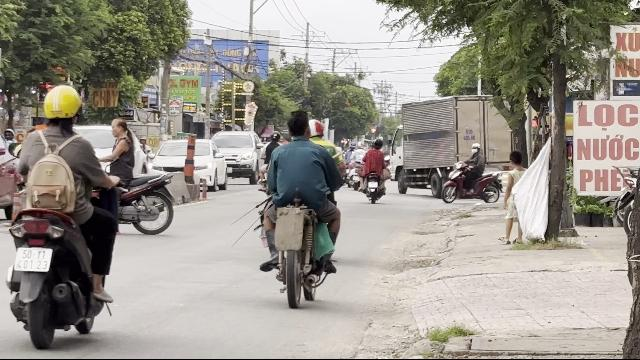helmet: (40, 84, 82, 128), (309, 119, 325, 137)
licenseplate: (14, 248, 50, 270)
motorcyclist: (2, 81, 120, 347), (253, 111, 345, 307)
nohelmet: (286, 112, 310, 138)
